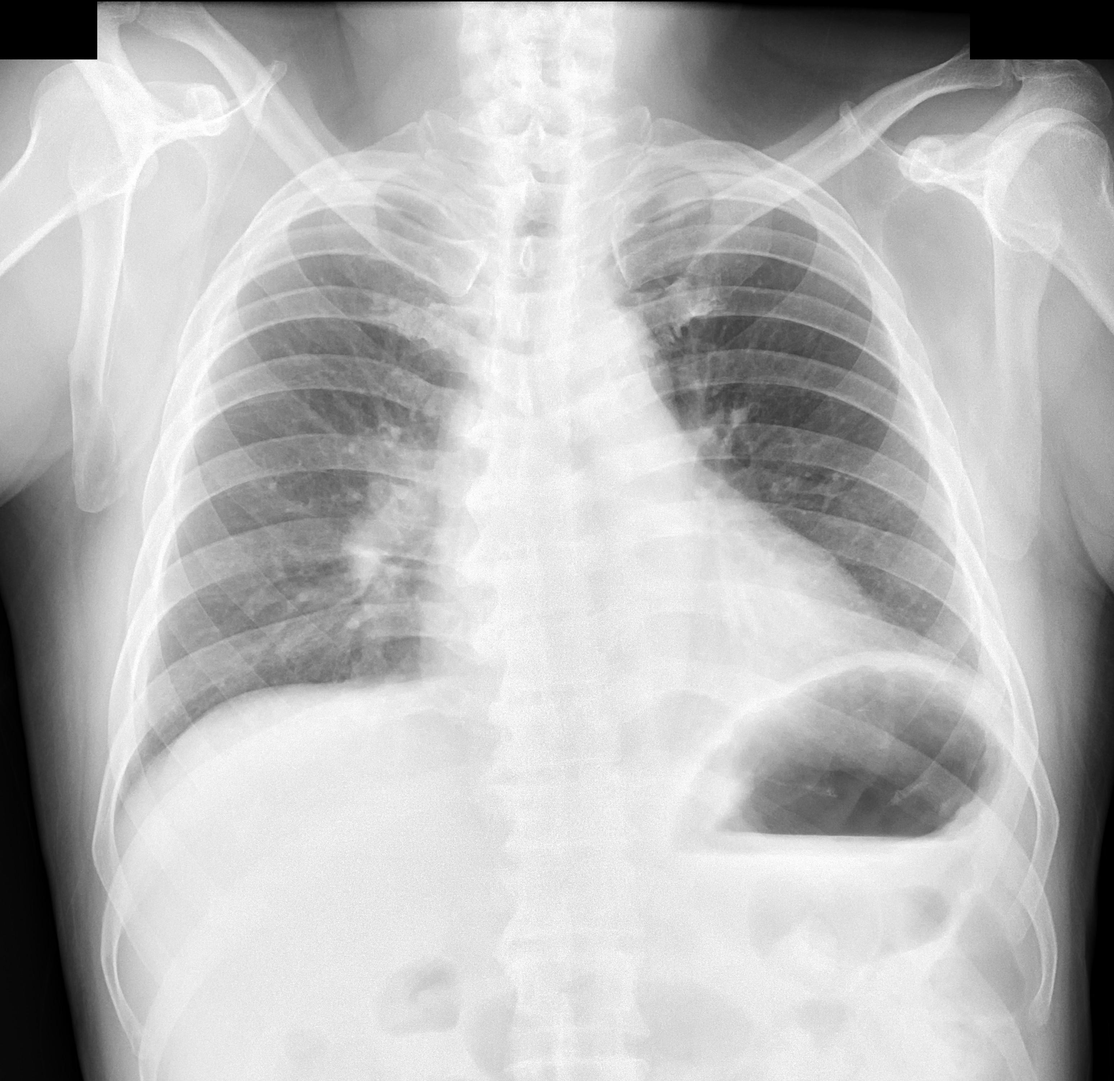Aortic enlargement: (442, 312, 674, 465)
Cardiomegaly: (407, 574, 904, 679)
